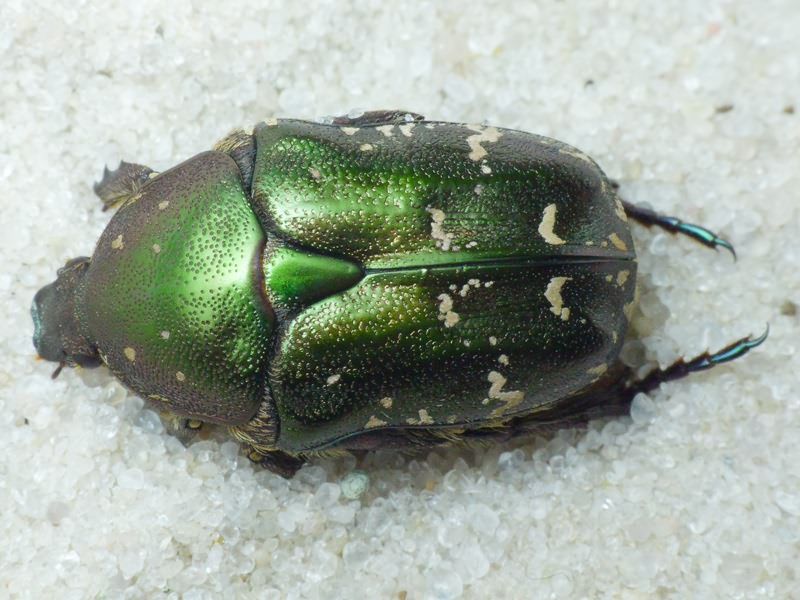Protaetia_metallica: (11, 108, 770, 487)
